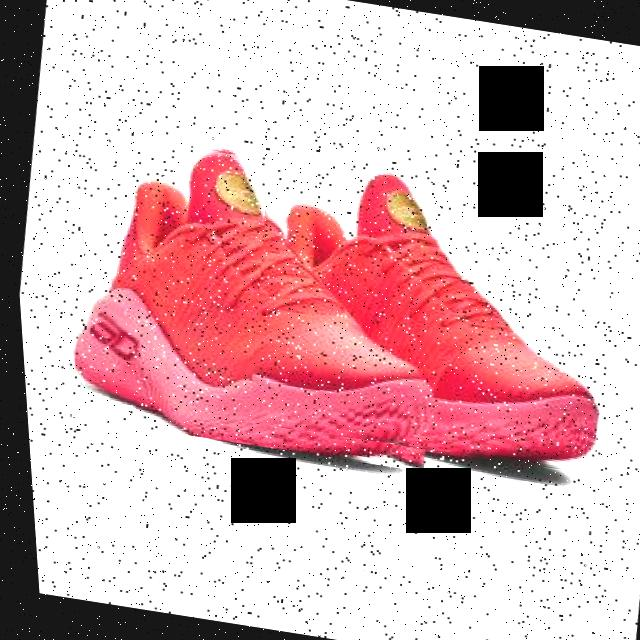shoe: (49, 128, 466, 472), (226, 158, 628, 476)
